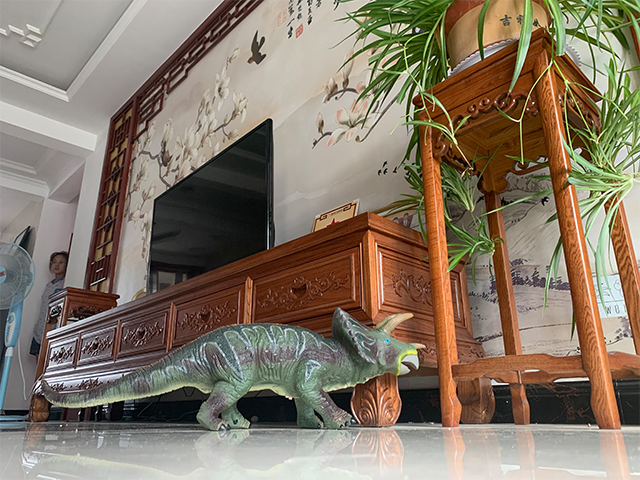cabinet: (27, 211, 496, 428)
